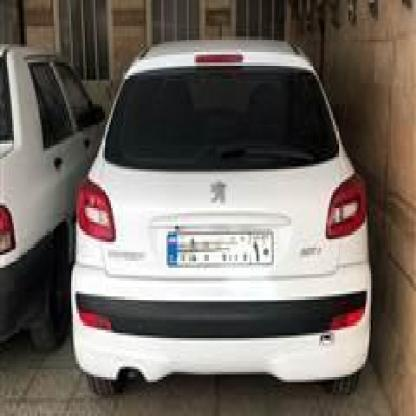Car: (75, 50, 376, 392), (0, 36, 87, 372)
